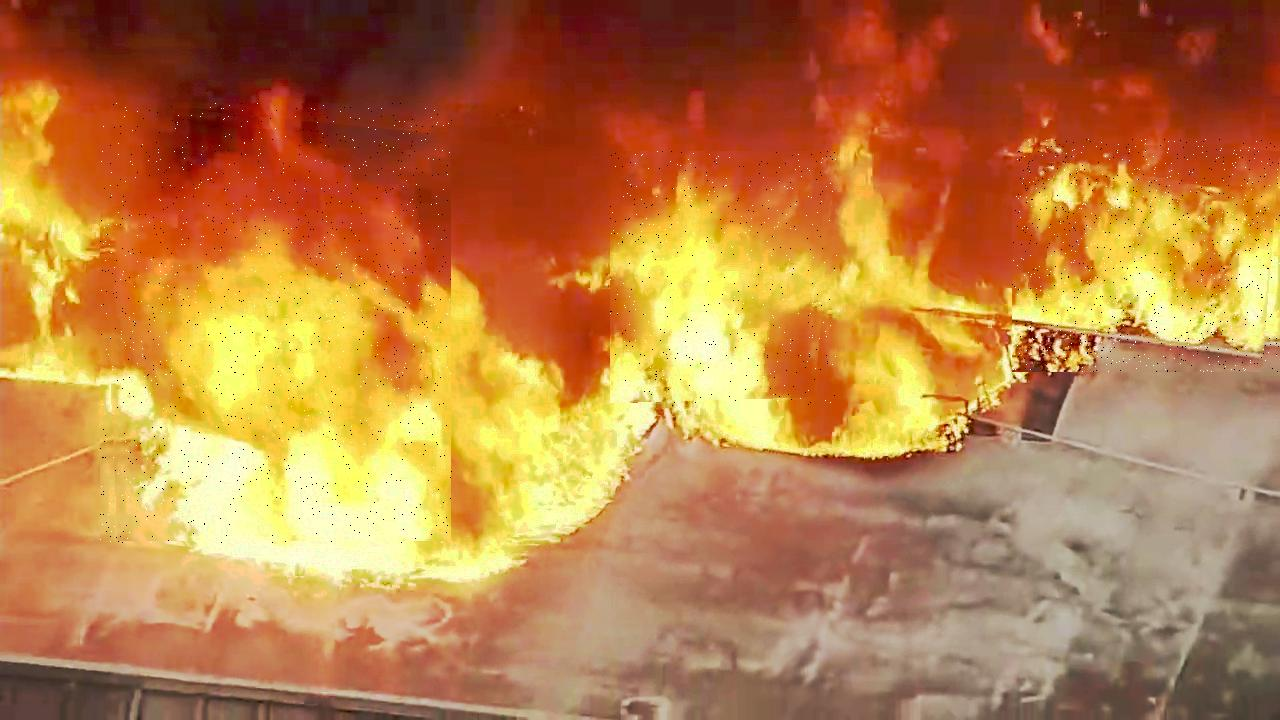fire: (101, 104, 454, 544), (1012, 139, 1280, 372), (610, 152, 837, 407)
